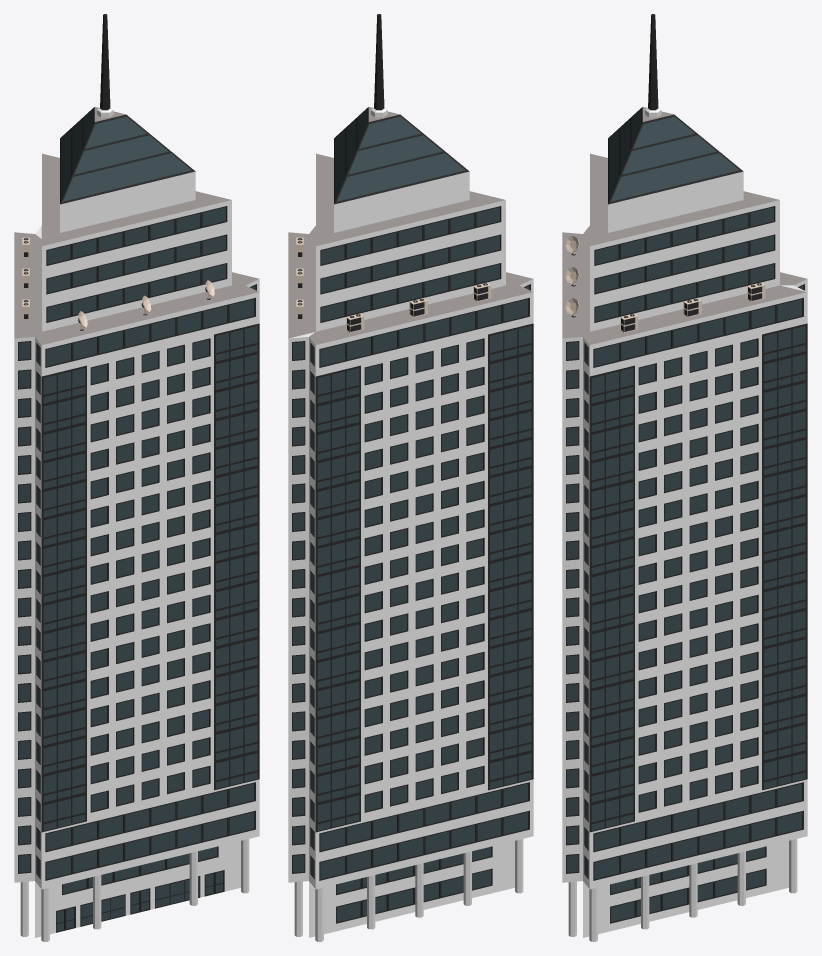
Rendered from buildings_building-skyscraper.fbx.
3 renders of one model, left to right at view 1: azimuth 30°, elevation 25°; view 2: azimuth 150°, elevation 25°; view 3: azimuth 270°, elevation 25°, orthographic.
Visible parts, largest first — view 1: buildings_building_skyscraper; view 2: buildings_building_skyscraper; view 3: buildings_building_skyscraper.
Boxes of the visible parts, x1,y1,x2,y2 form: buildings_building_skyscraper: (14,14,259,941); buildings_building_skyscraper: (288,14,533,941); buildings_building_skyscraper: (562,14,807,941).
Size of the model in its own units: 58.82 by 200 by 50.94.
